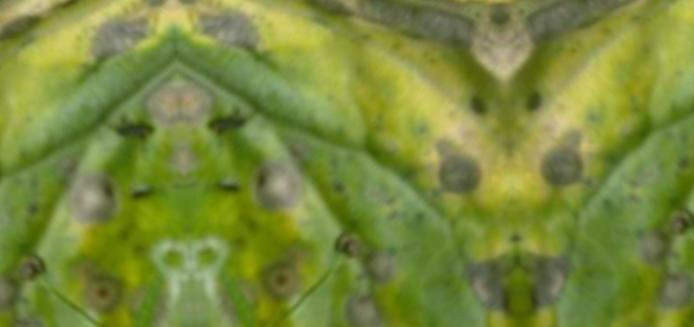Tomato leaf bacterial spot: (159, 0, 532, 327)
